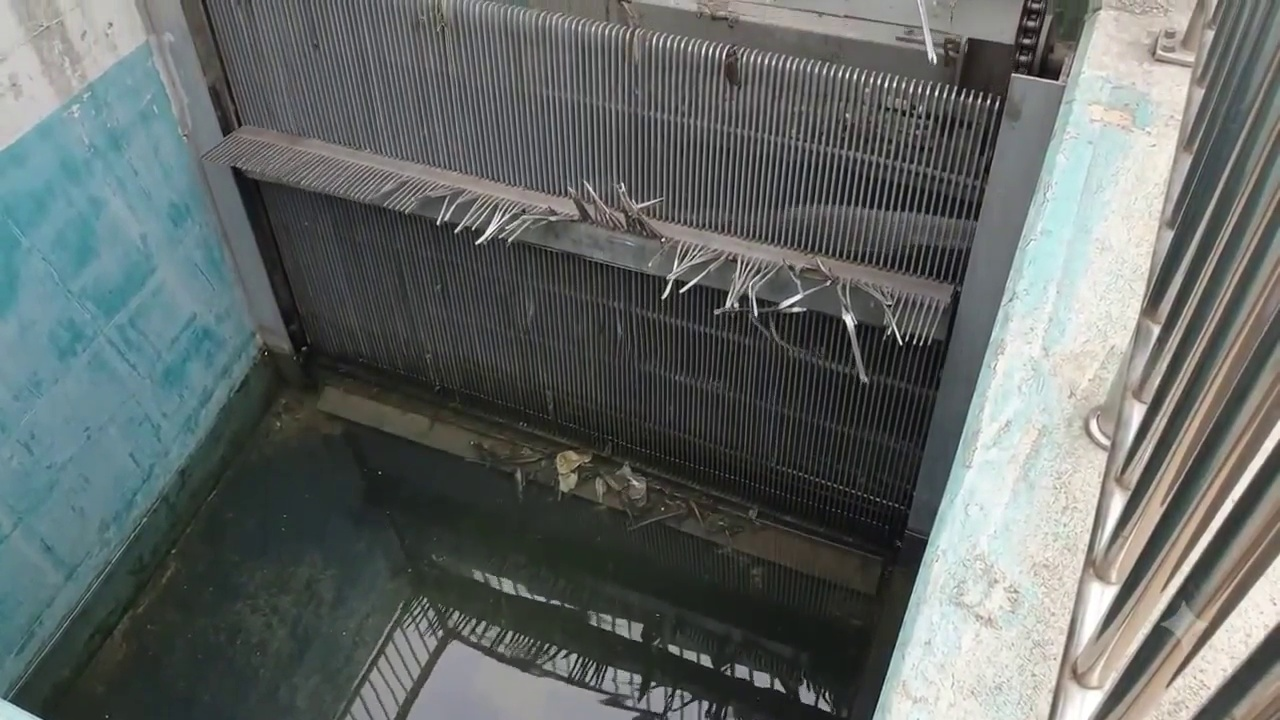damage: (395, 169, 925, 364)
